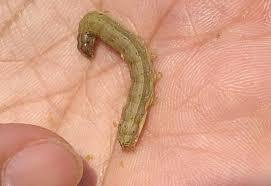fallarmy_worm: (73, 9, 161, 157)
